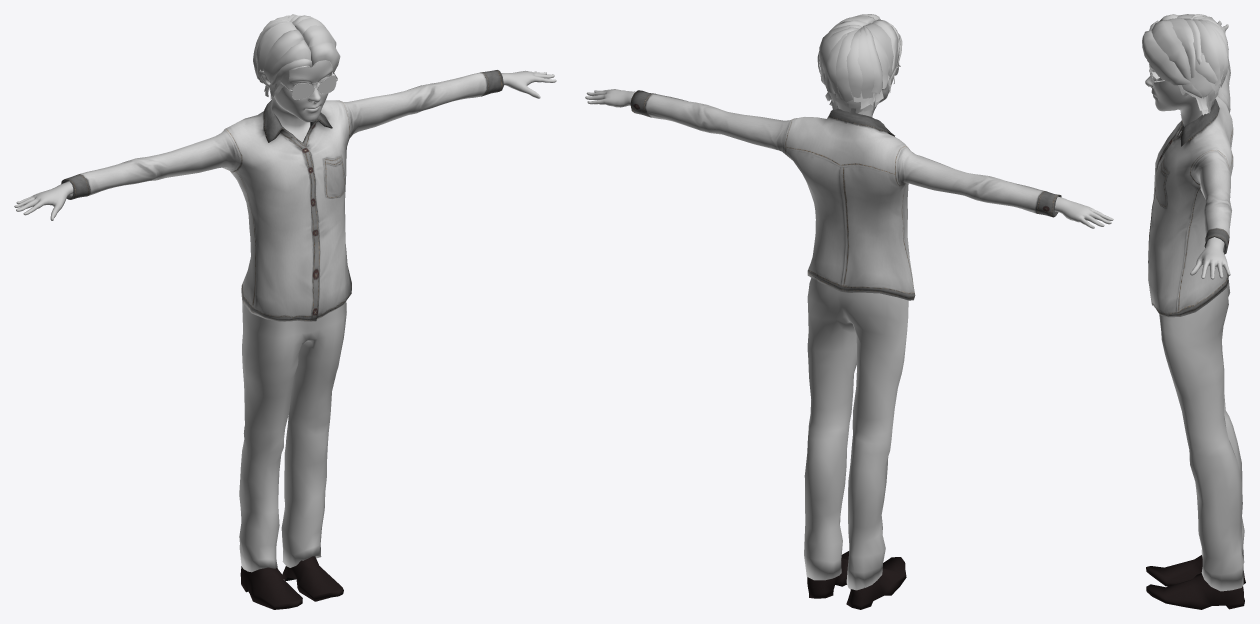
The model's file is Carita.obj.
The picture shows the model from 3 angles, left to right: view 1: azimuth 30°, elevation 25°; view 2: azimuth 150°, elevation 25°; view 3: azimuth 270°, elevation 25°; orthographic projection. The views are drawn at different scales.
Parts seen in each view (by area): view 1: Tops, Bottoms, Body, Hair, Shoes; view 2: Tops, Bottoms, Hair, Shoes, Body; view 3: Tops, Bottoms, Hair, Shoes, Body.
Boxes of the visible parts, x1,y1,x2,y2 form: Tops: (61,70,503,321); Bottoms: (239,301,346,572); Body: (14,29,556,220); Hair: (253,14,340,101); Shoes: (240,556,343,609); Tops: (630,90,1061,300); Bottoms: (804,278,908,590); Hair: (817,14,902,113); Shoes: (807,551,906,609); Body: (585,24,1113,228); Tops: (1148,42,1233,317); Bottoms: (1159,278,1244,591); Hair: (1142,14,1228,115); Shoes: (1146,555,1245,609); Body: (1145,20,1230,279).
Bounding box in the file's own units: 163 × 168 × 27.4.
